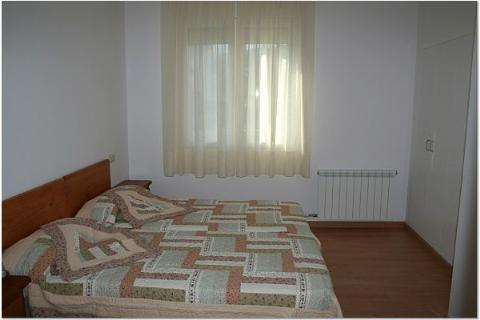Armario: (408, 32, 478, 239)
Cama: (12, 227, 314, 317), (88, 160, 309, 228)
Otro Obstaculo: (314, 164, 399, 229)
Ventana: (171, 20, 311, 153)
